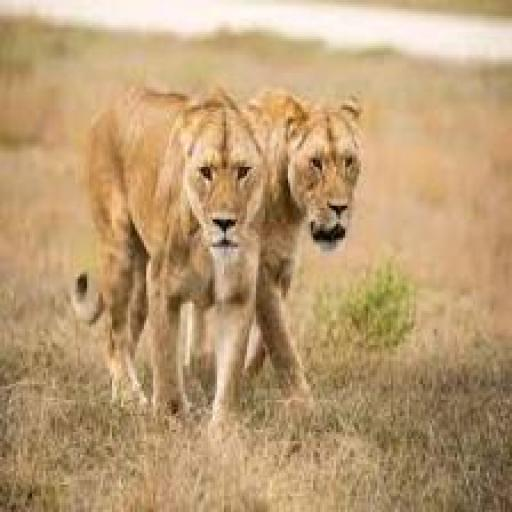lion: (89, 73, 255, 448), (274, 84, 370, 439)
